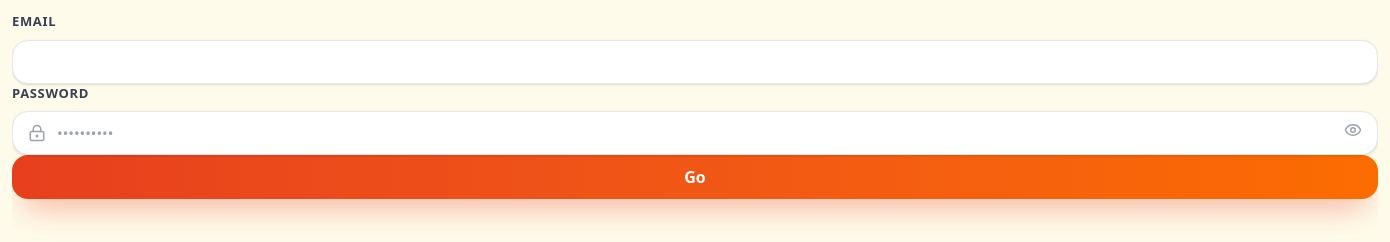
auth field kit › toggles password visibility with an accessible label
The image size is (1390, 242).
Click the button named "Show password": {"x": 1353, "y": 130} [1344, 121, 1362, 139]
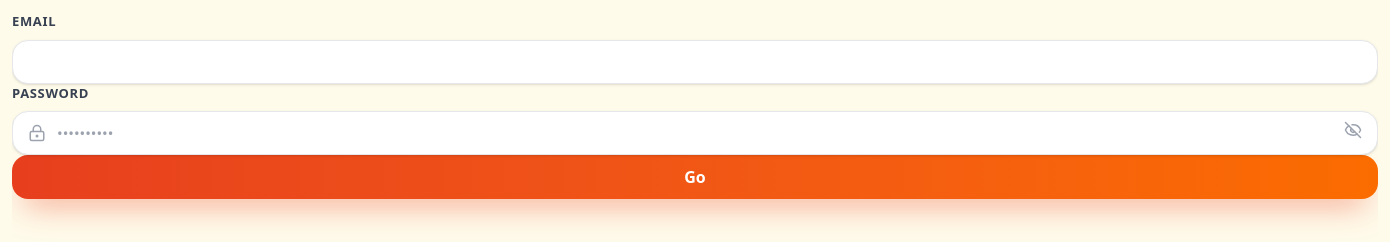
Check: the button named "Hide password" is shown, box [1344, 121, 1362, 139]
